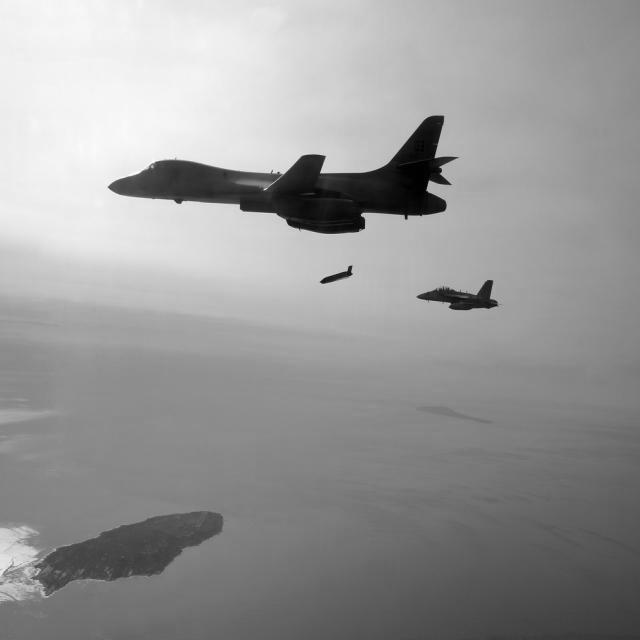missile: (314, 255, 356, 293)
